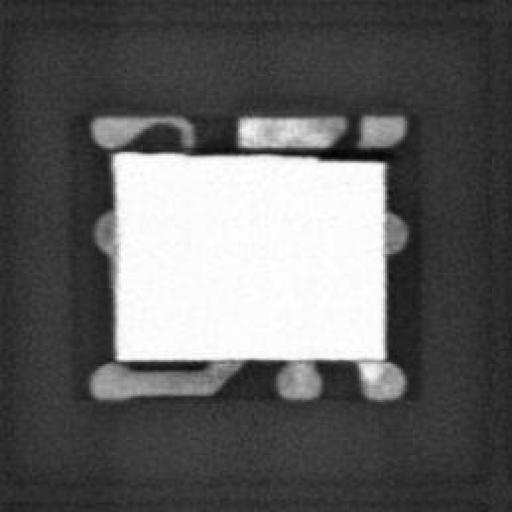DIE_BROKEN: (179, 142, 391, 163)
